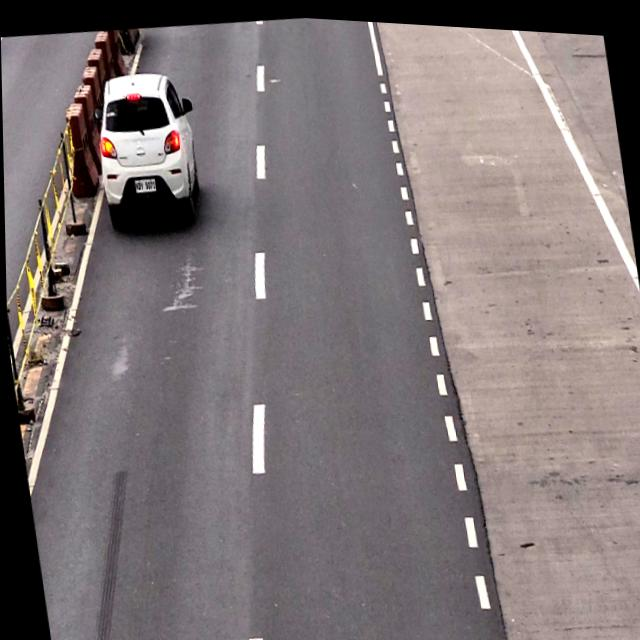Car: (85, 62, 203, 224)
License-Plate: (132, 174, 157, 196)
